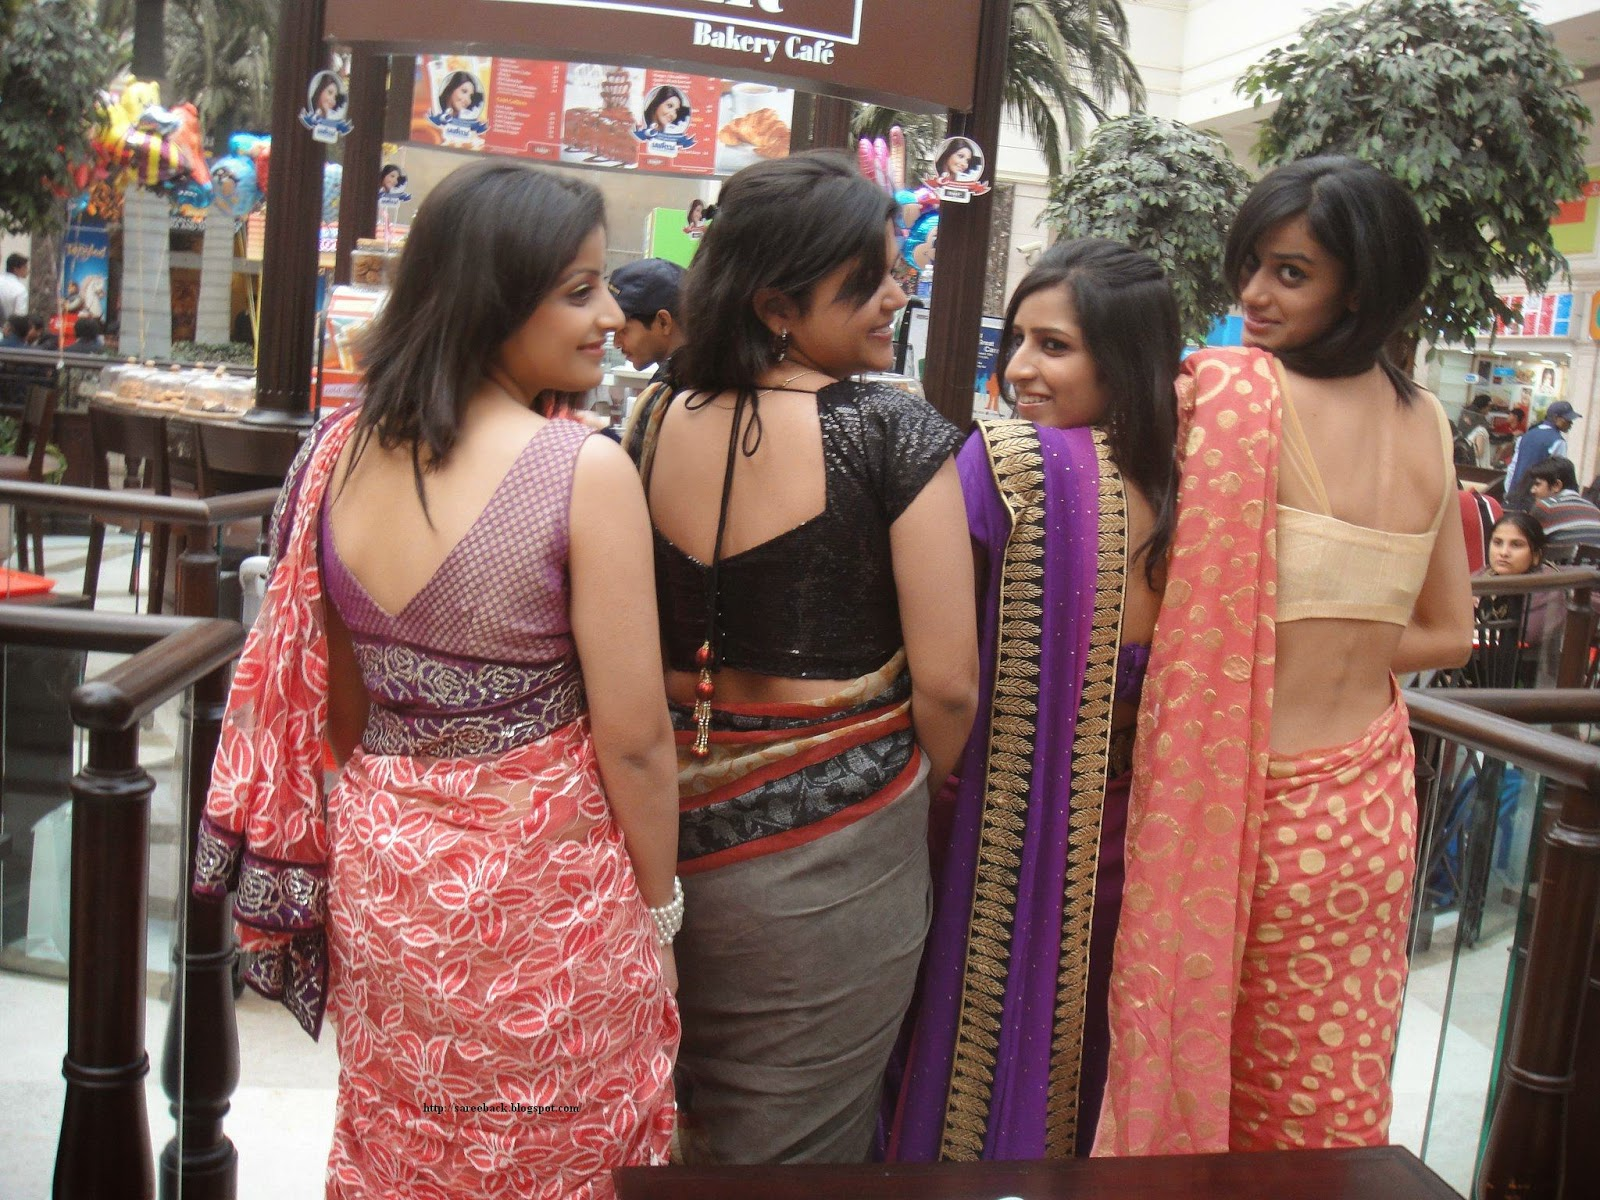person: (273, 158, 673, 1162), (662, 142, 980, 1129), (1195, 149, 1459, 1147), (975, 236, 1184, 1147), (1528, 451, 1600, 561), (1473, 503, 1546, 585)
